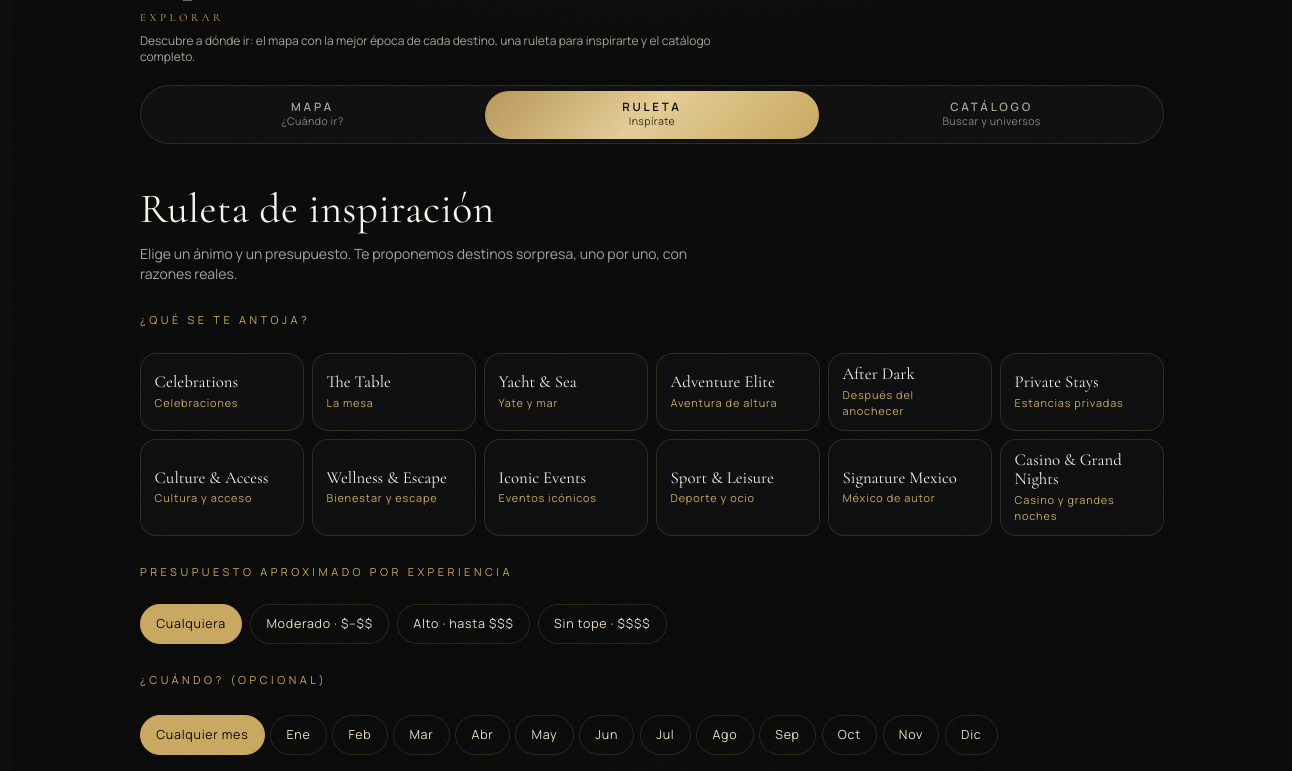
Test case: Explorar · Ruleta de inspiración › sin resultados lo dice (no inventa destinos)
Click the radio button labelled "After Dark Después del anochecer" at (910, 392), box left=828, top=353, right=992, bottom=431
(page scrolled)
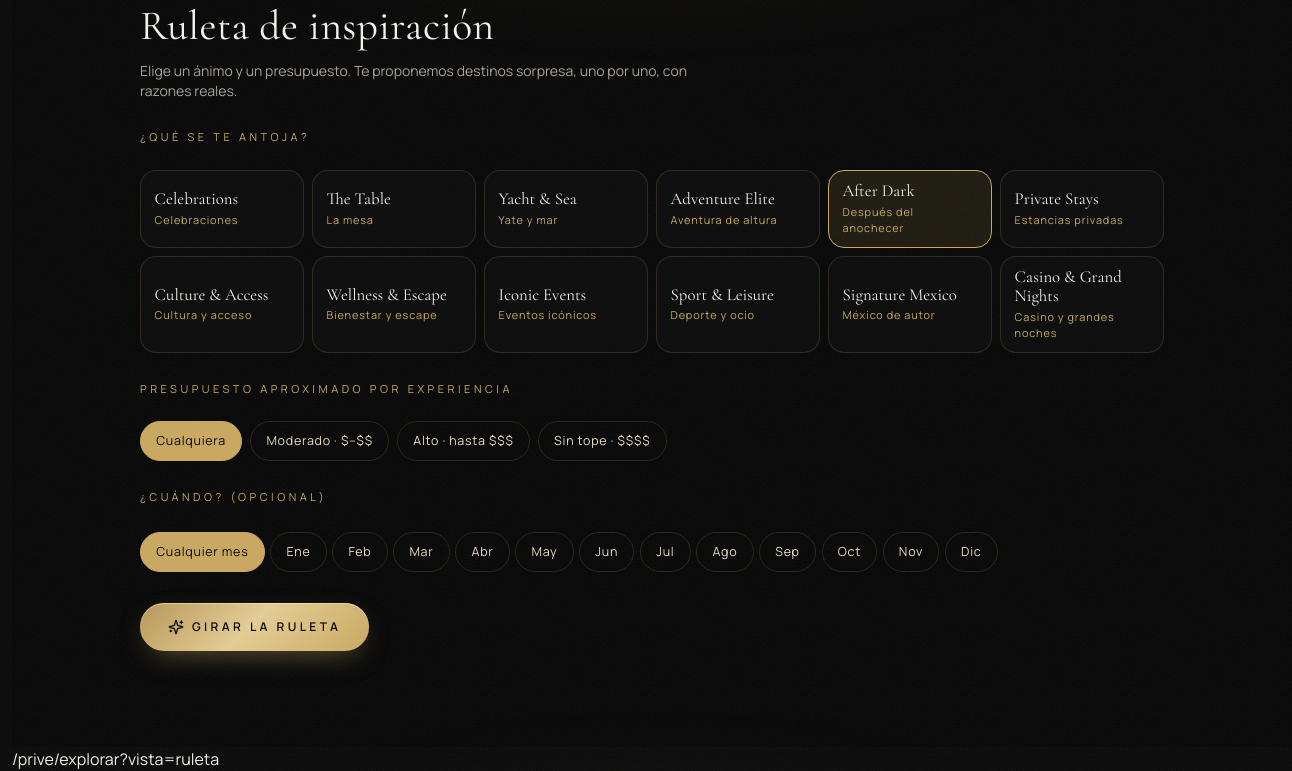
Click the button with test id "prive-roulette-spin" at (255, 627), box left=140, top=603, right=369, bottom=651
(page scrolled)
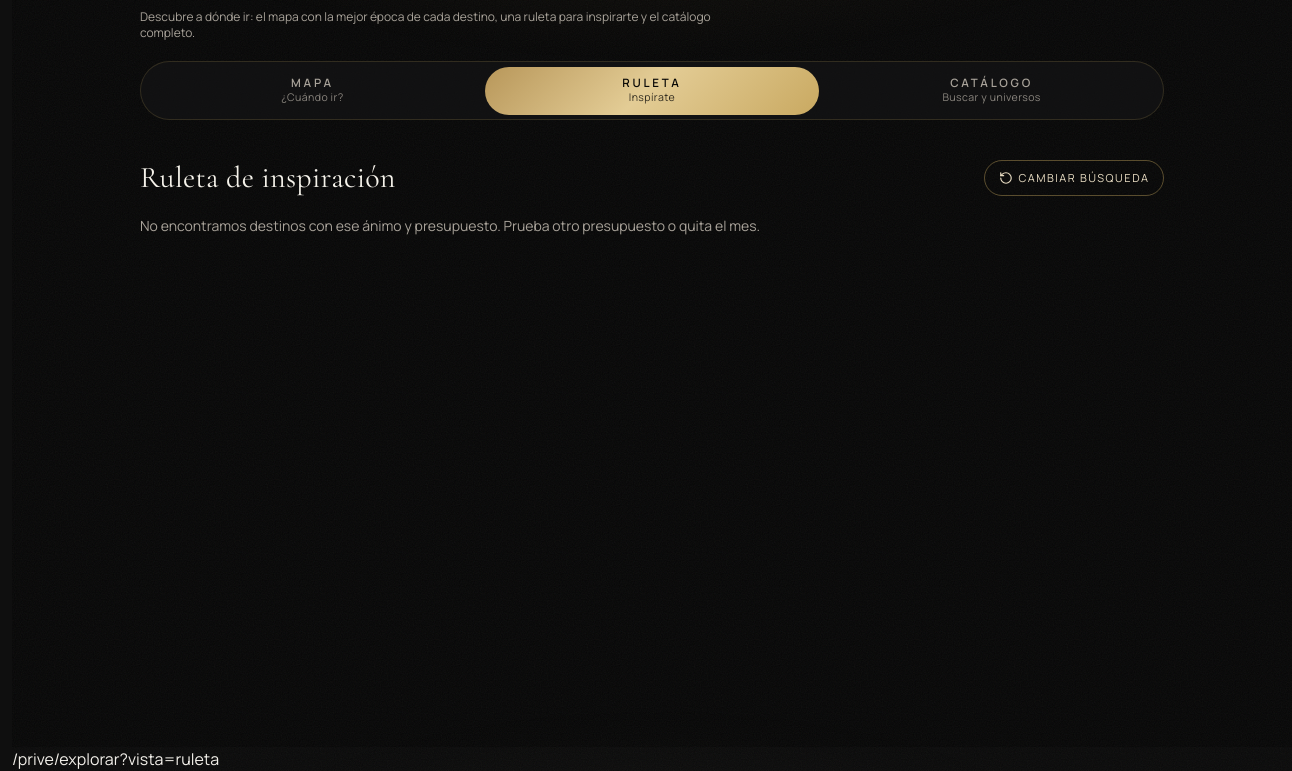
Now the text "No encontramos destinos con ese ánimo y presupuesto" is shown, box left=140, top=216, right=760, bottom=235
